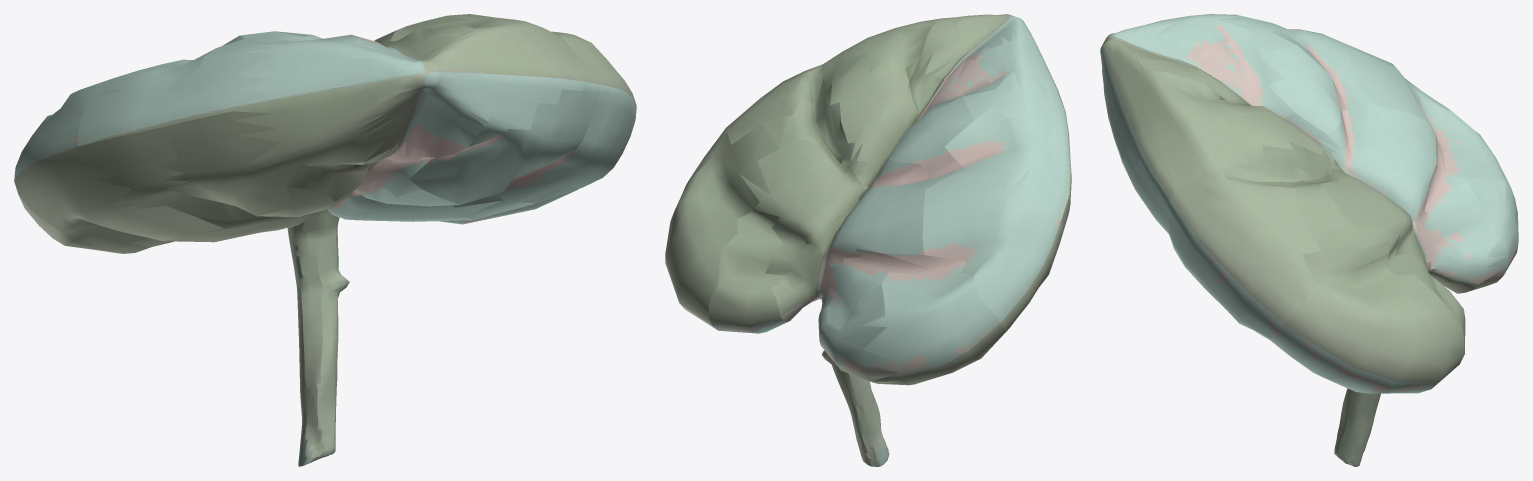
File: heart_halfmoon_v2_stem_v2.glb
The picture shows the model from 3 angles, left to right: view 1: azimuth 30°, elevation 25°; view 2: azimuth 150°, elevation 25°; view 3: azimuth 270°, elevation 25°; orthographic projection. The views are drawn at different scales.
Visible parts, largest first — view 1: GLTF_0, GLTF_1_1; view 2: GLTF_0, GLTF_1_1; view 3: GLTF_0, GLTF_1_1.
Part boxes in pixels (box(x1,y1,x2,y2)): GLTF_0: box(14, 14, 636, 253); GLTF_1_1: box(287, 209, 349, 466); GLTF_0: box(665, 14, 1071, 385); GLTF_1_1: box(821, 304, 889, 466); GLTF_0: box(1100, 14, 1518, 393); GLTF_1_1: box(1334, 388, 1380, 466).
Size of the model in its own units: 1.97 by 1.84 by 1.69.
Materials: 2 (2 with a texture image).
